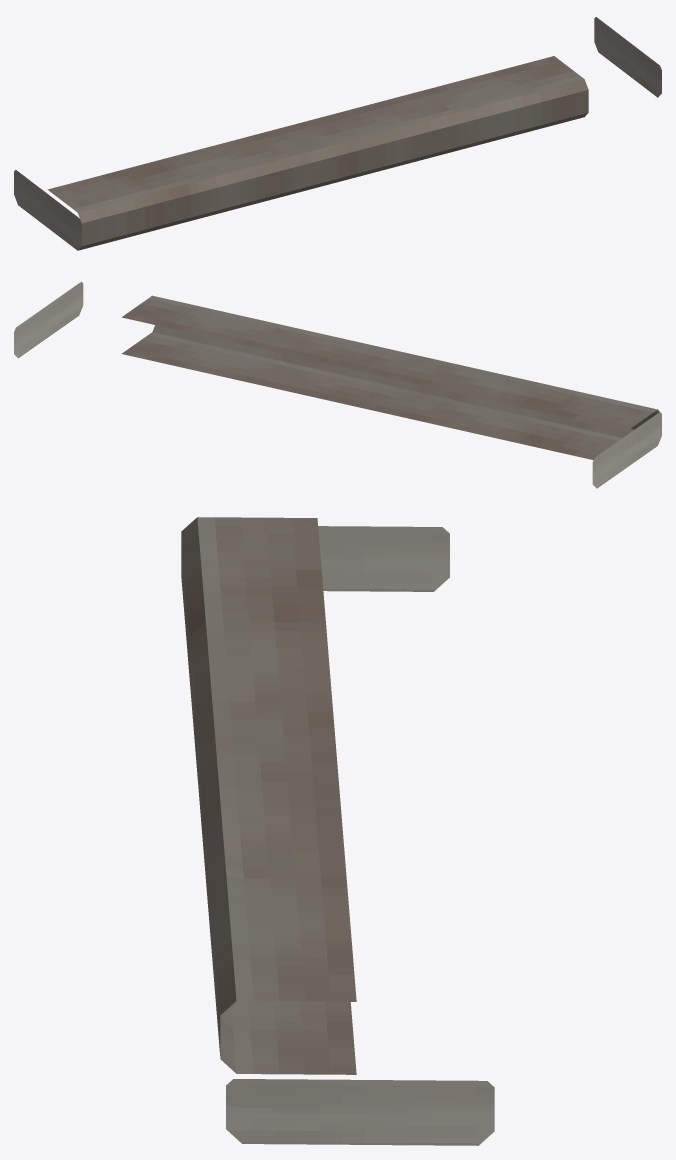
3 renders of one model, top to bottom at view 1: azimuth 30°, elevation 25°; view 2: azimuth 150°, elevation 25°; view 3: azimuth 270°, elevation 25°, orthographic. The views are drawn at different scales.
Size of the model in its own units: 0.98 by 0.07 by 0.2336.
